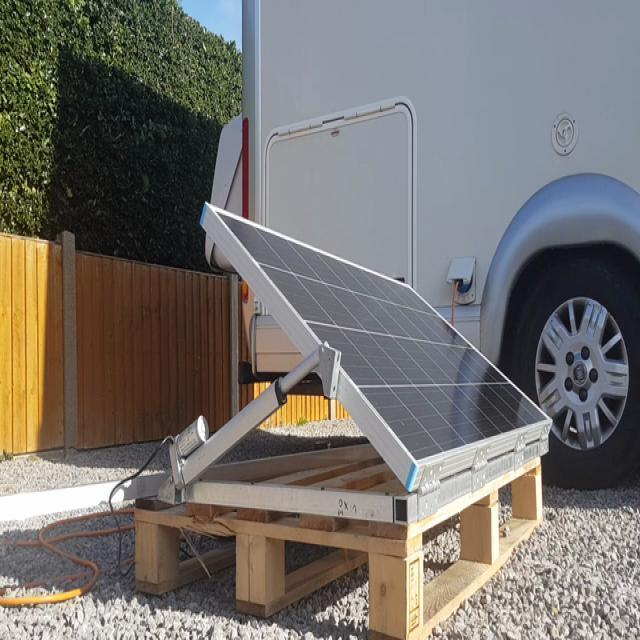Normal Solar Panel: (215, 211, 553, 462)
